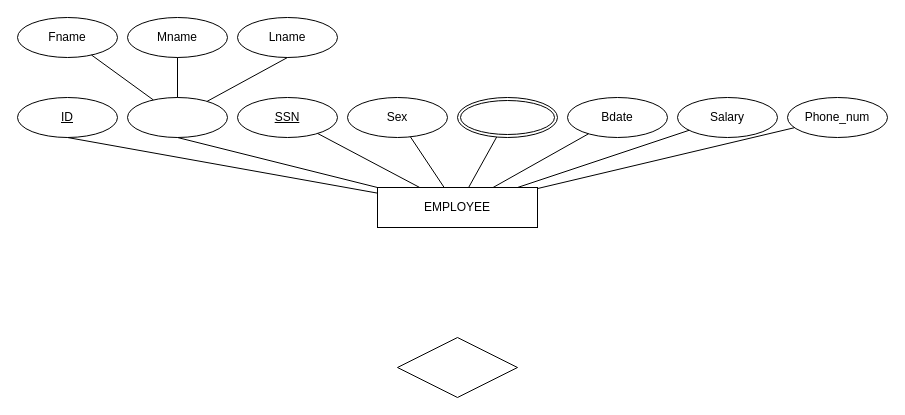
This 905x415 diagram has some shape labels left out. Here are the shapes that lost their labels. From the top down, the centre of each, then its label:
(177,117): Name
(507,117): Address
(457,367): Relationship
